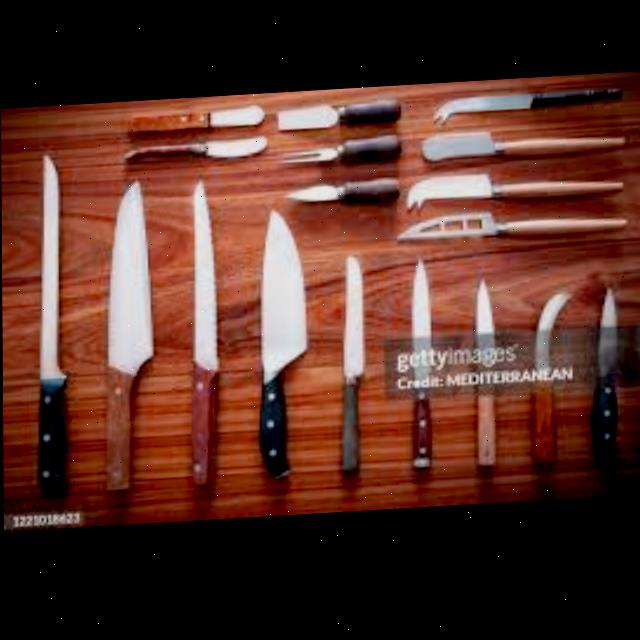Knife: (103, 179, 153, 491), (256, 210, 306, 482), (34, 153, 66, 497), (187, 178, 217, 487), (404, 171, 622, 213), (394, 209, 627, 248), (419, 129, 627, 167), (527, 296, 570, 474), (432, 91, 622, 128), (338, 256, 362, 480), (588, 291, 617, 459), (409, 261, 431, 473), (472, 281, 494, 472), (128, 105, 264, 135), (121, 136, 266, 164), (277, 102, 401, 133), (279, 137, 401, 168), (284, 179, 399, 209)
